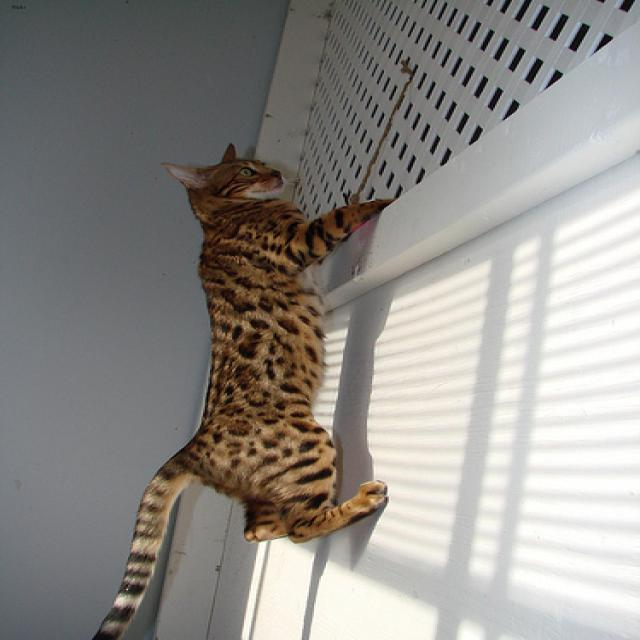Bengal: (161, 142, 284, 198)
